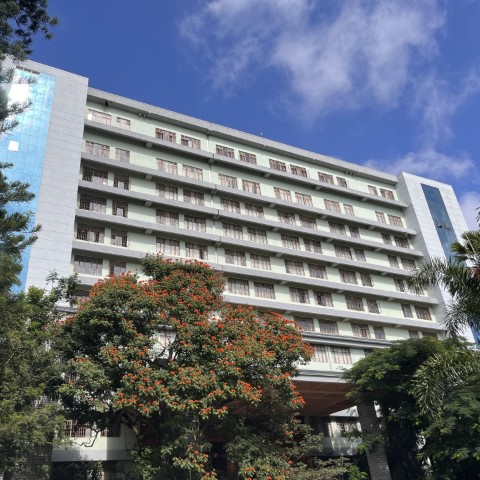Central Block: (16, 52, 480, 371)
